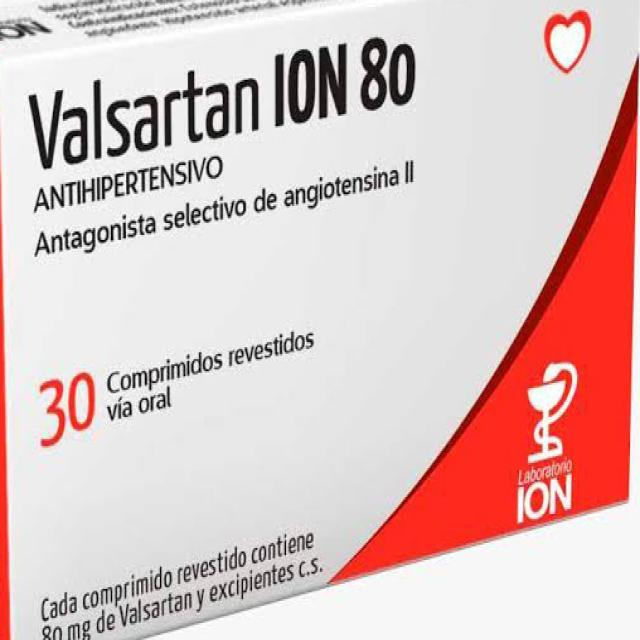drug-name: (23, 28, 425, 175)
